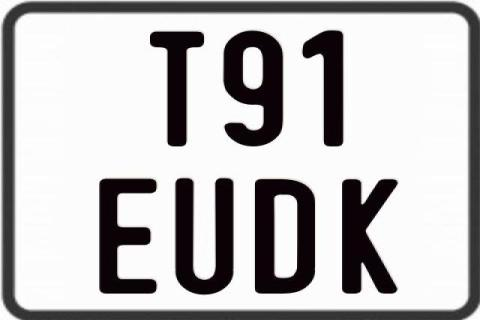0: (220, 29, 280, 147), (300, 28, 347, 148)
D: (253, 177, 317, 297)
E: (97, 178, 159, 296)
K: (339, 178, 396, 296)
T: (148, 31, 207, 147)
U: (174, 178, 236, 296)
